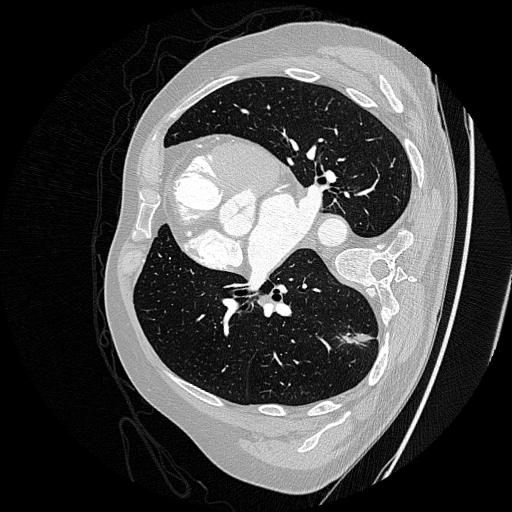nodule: (343, 329, 367, 353)
